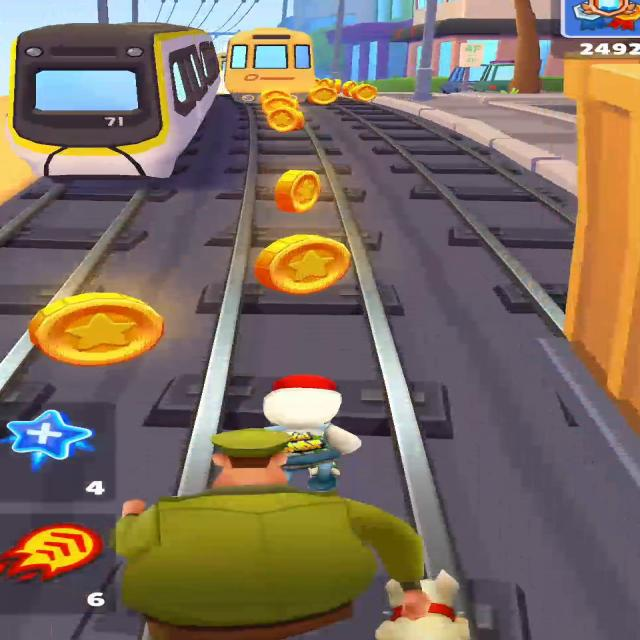police: (113, 427, 433, 640)
train: (5, 23, 221, 181), (565, 59, 639, 434), (225, 28, 315, 104)
